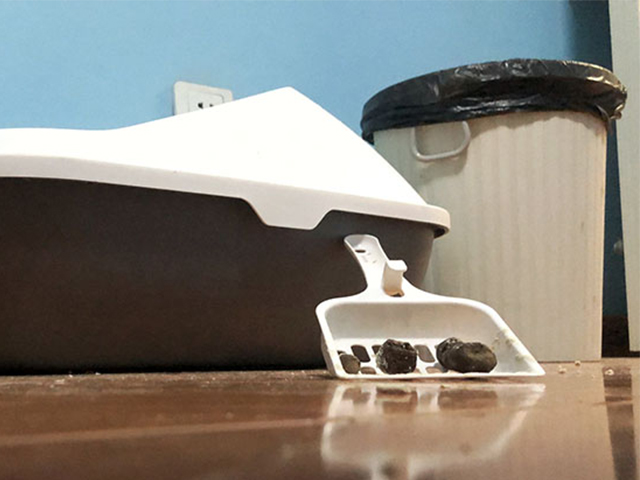feces: (434, 336, 500, 374), (374, 338, 419, 376)
trashcan: (360, 57, 629, 363)
